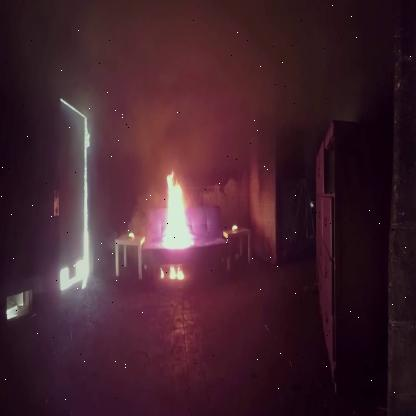fire: (160, 176, 201, 248)
smoke: (8, 3, 388, 192)
